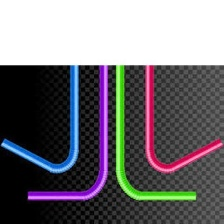drinking_straw: (24, 63, 114, 208), (111, 61, 198, 207), (0, 64, 85, 180), (140, 65, 223, 179)
